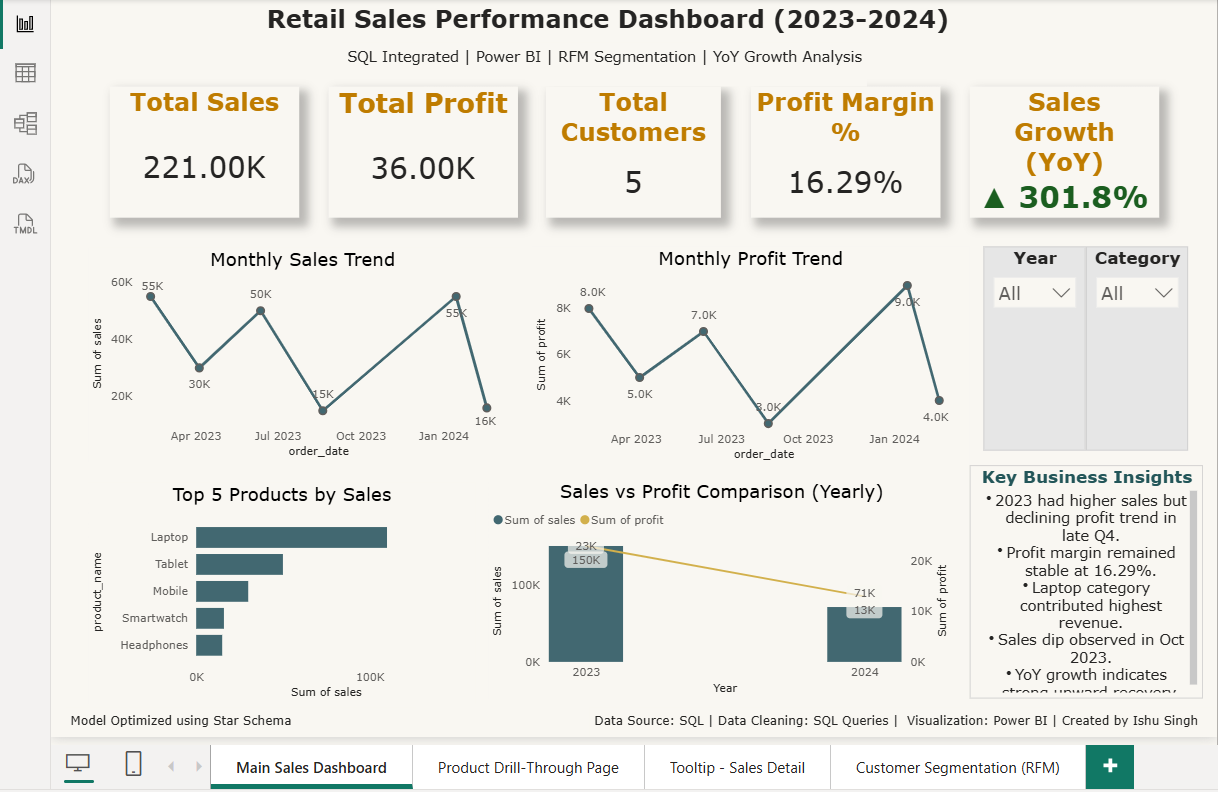

This screenshot's page, from the dashboard's own definition file:
{"tool":"powerbi","page":{"name":"Main Sales Dashboard","canvas":[1280,810],"ordinal":0},"visuals":[{"type":"card","title":"Total Sales","fields":{"Values":["Sum(orders.sales)"]},"box":[64,96,208,144],"z":0},{"type":"card","title":"Total Customers","fields":{"Values":["Count(orders.customer_id)"]},"box":[544,96,192,144],"z":1000},{"type":"lineChart","title":"Monthly Sales Trend","fields":{"Y":["Sum(orders.sales)"],"Category":["orders.order_date"]},"box":[41.3,272.4,470.5,235.2],"z":2000},{"type":"lineChart","title":"Monthly Profit Trend","fields":{"Y":["Sum(orders.profit)"],"Category":["orders.order_date"]},"box":[528,272,480,240],"z":3000},{"type":"lineClusteredColumnComboChart","title":"Sales vs Profit Comparison (Yearly)","fields":{"Category":["orders.order_date.Variation.Date Hierarchy.Year","orders.order_date.Variation.Date Hierarchy.Month"],"Y":["Sum(orders.sales)"],"Y2":["Sum(orders.profit)"]},"box":[480,528,512,240],"z":4000},{"type":"slicer","title":"Year","fields":{"Values":["orders.order_date.Variation.Date Hierarchy.Year"]},"box":[1024,272,112,224],"z":5000},{"type":"card","title":"Profit Margin %","fields":{"Values":["customers.Profit Margin %"]},"box":[768,96,208,144],"z":6000},{"type":"clusteredBarChart","title":"Top 5 Products by Sales","fields":{"Category":["products.product_name"],"Y":["Sum(orders.sales)"]},"box":[41.3,531,425.1,242.1],"z":7000},{"type":"textbox","box":[232.5,0,939.6,70.2],"z":8000},{"type":"slicer","title":"Category","fields":{"Values":["products.category"]},"box":[1136,272,112,224],"z":9000},{"type":"textbox","box":[592,778,688,32],"z":10000},{"type":"textbox","box":[320,48,576,48],"z":11000},{"type":"textbox","title":"Key Business Insights","box":[1008,512,256,256],"z":12000},{"type":"textbox","box":[16,778,384,32],"z":13000},{"type":"card","title":"Total Profit","fields":{"Values":["Sum(orders.profit)"]},"box":[304,96,208,144],"z":14000},{"type":"card","title":"Sales Growth (YoY)","fields":{"Values":["customers.YoY Arrow"]},"box":[1008,96,208,144],"z":15000}]}

Visuals, with their boxes on the page's 1280x810 design canvas (x1, y1, x2, y2). These are canvas units, not pixel positions in the 1218x792 screenshot, which may show the page scaled, cropped or inside an application window:
"Total Sales" card: select_region(64, 96, 272, 240)
"Total Customers" card: select_region(544, 96, 736, 240)
"Monthly Sales Trend" lineChart: select_region(41, 272, 512, 508)
"Monthly Profit Trend" lineChart: select_region(528, 272, 1008, 512)
"Sales vs Profit Comparison (Yearly)" lineClusteredColumnComboChart: select_region(480, 528, 992, 768)
"Year" slicer: select_region(1024, 272, 1136, 496)
"Profit Margin %" card: select_region(768, 96, 976, 240)
"Top 5 Products by Sales" clusteredBarChart: select_region(41, 531, 466, 773)
textbox: select_region(232, 0, 1172, 70)
"Category" slicer: select_region(1136, 272, 1248, 496)
textbox: select_region(592, 778, 1280, 810)
textbox: select_region(320, 48, 896, 96)
"Key Business Insights" textbox: select_region(1008, 512, 1264, 768)
textbox: select_region(16, 778, 400, 810)
"Total Profit" card: select_region(304, 96, 512, 240)
"Sales Growth (YoY)" card: select_region(1008, 96, 1216, 240)
